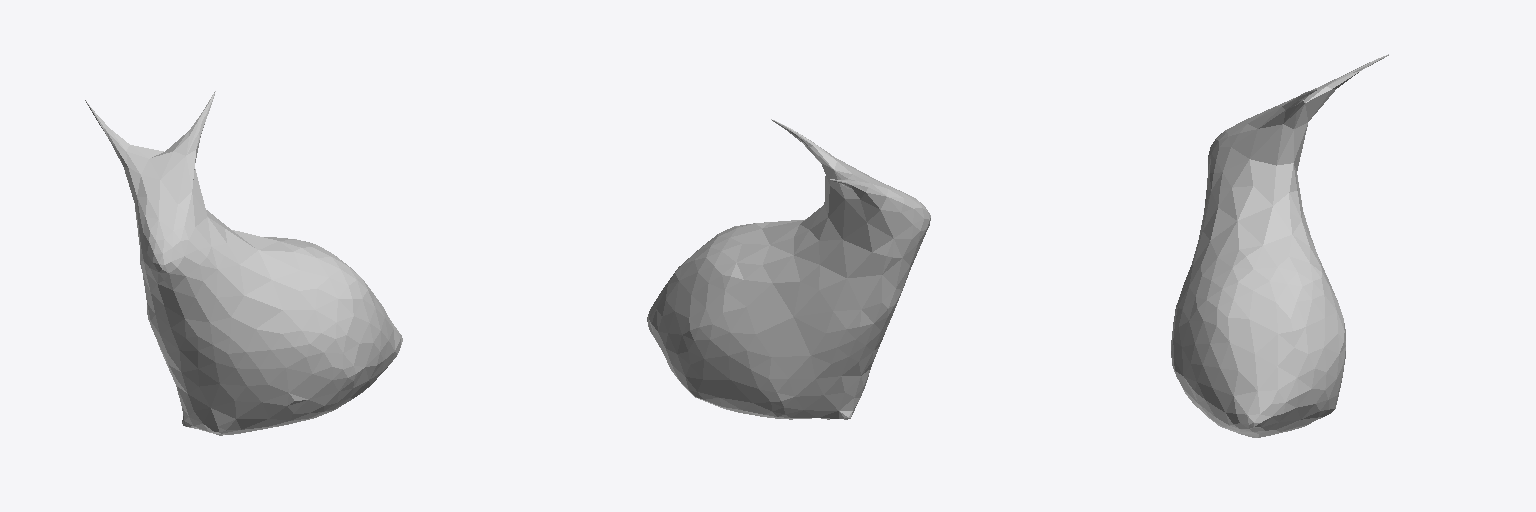
Rendered from bunny_tiny_smoothed_70.obj.
3 renders of one model, left to right at view 1: azimuth 30°, elevation 25°; view 2: azimuth 150°, elevation 25°; view 3: azimuth 270°, elevation 25°, orthographic.
Bounding box in the file's own units: 7 × 7.86 × 4.98.